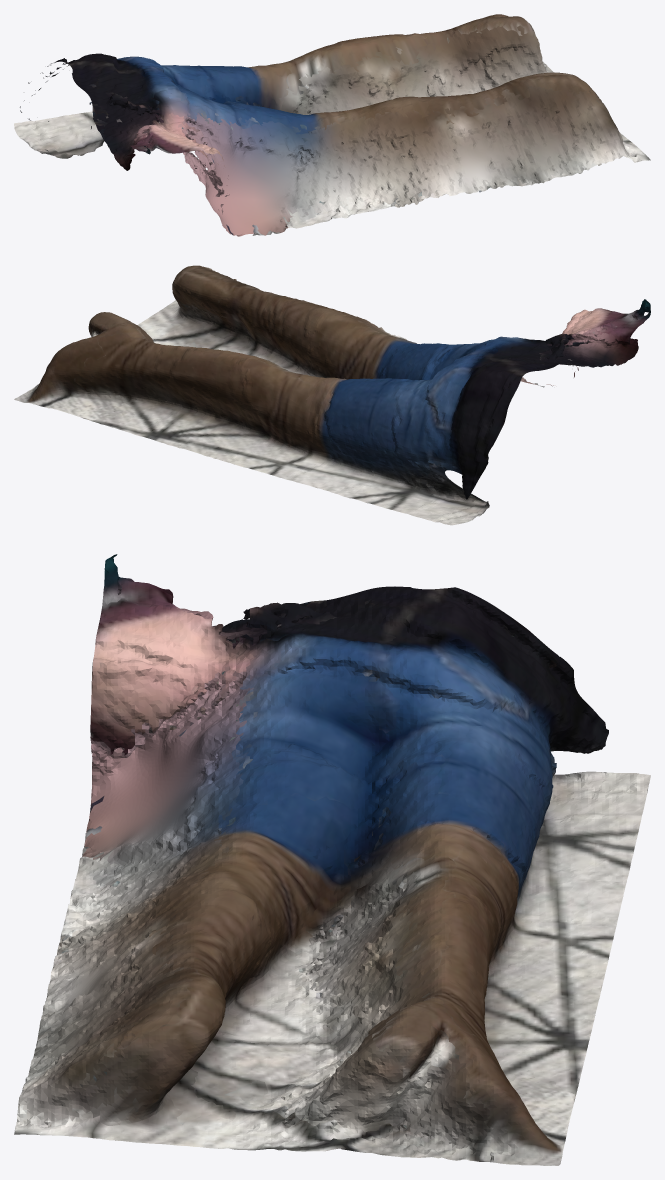
3 renders of one model, top to bottom at view 1: azimuth 30°, elevation 25°; view 2: azimuth 150°, elevation 25°; view 3: azimuth 270°, elevation 25°, orthographic. The views are drawn at different scales.
Bounding box in the file's own units: 1.14 × 0.2681 × 0.7476.
Materials: 1 (1 with a texture image).
